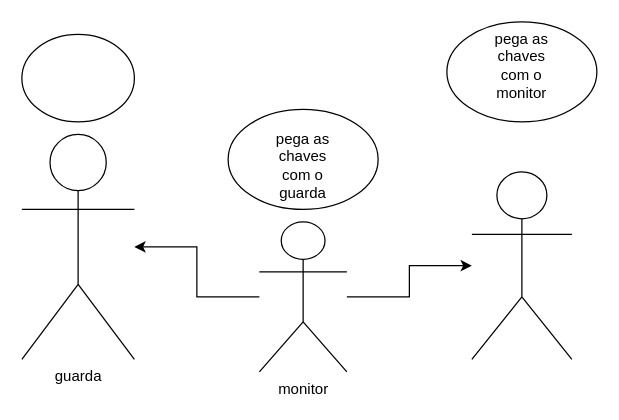
This 619x420 diagram has some shape labels left out. Each missing label, with the centre of its shape:
Fica com as chaves na guarita: (x=77, y=77)
professor: (x=521, y=265)
